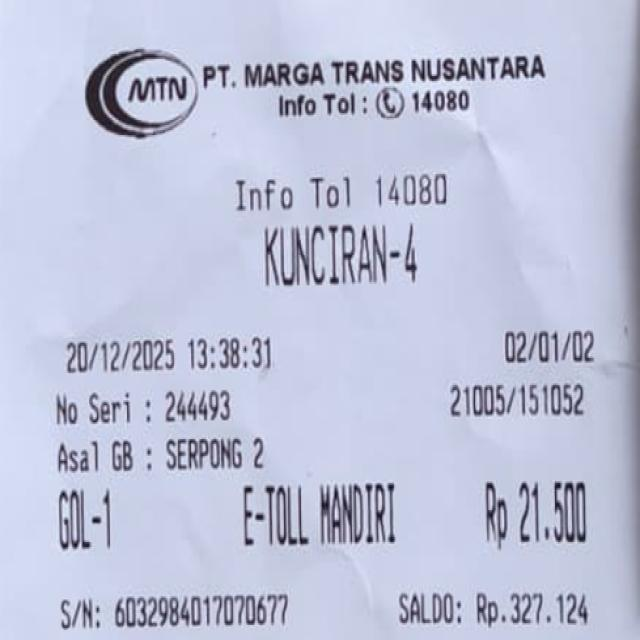date: (69, 340, 282, 370)
store: (191, 54, 555, 104)
total: (473, 477, 600, 560)
